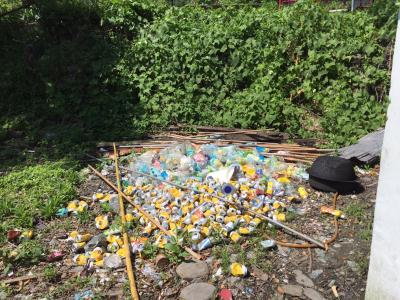bottle: (228, 262, 248, 278), (196, 237, 212, 252), (229, 230, 243, 244), (272, 212, 286, 222), (249, 217, 261, 227)
bowl: (307, 154, 359, 193)
